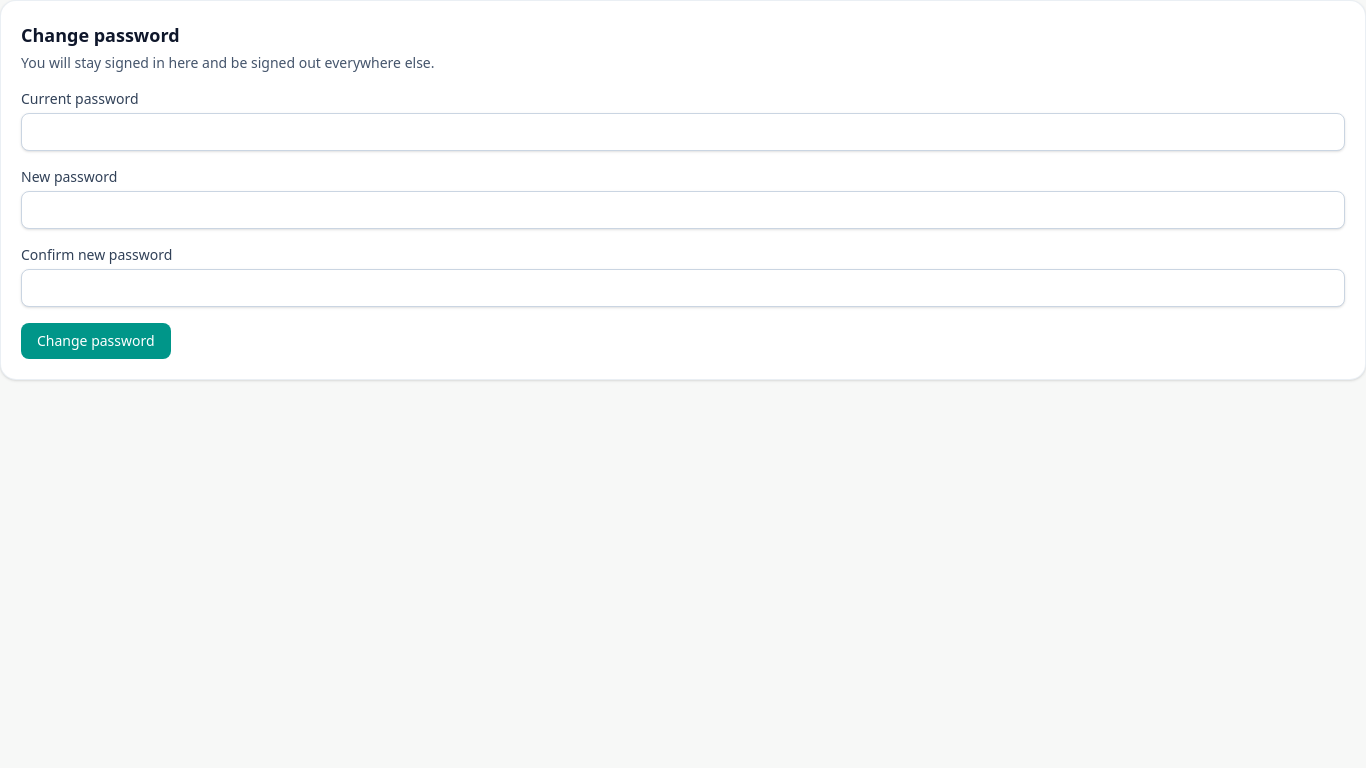
Test: ChangePasswordForm › changes the password, clears the form and confirms
Type "OldPassword1" into the password field labelled "Current password". click: (683, 132)
box: [21,113,1345,151]
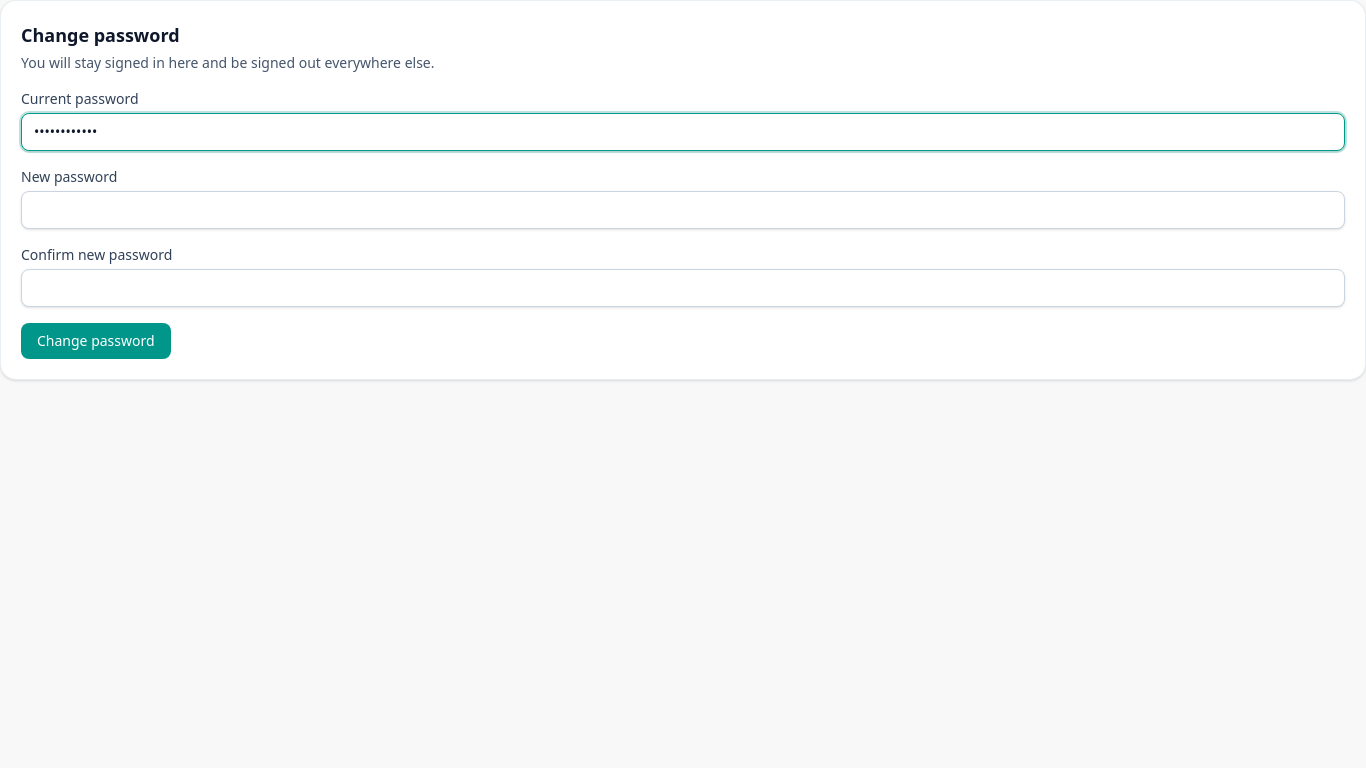
Type "NewPassword12" into the password field labelled "New password". click: (683, 210)
box: [21,191,1345,229]
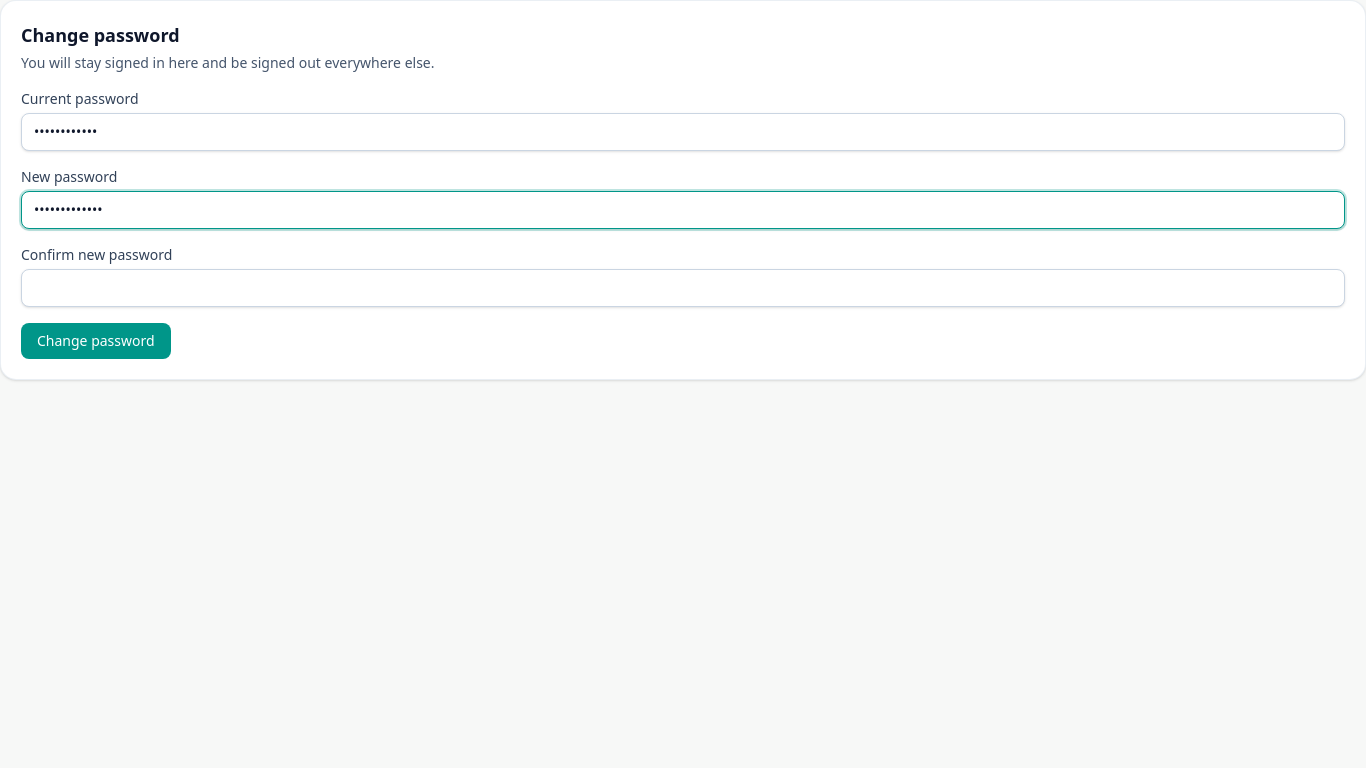
Type "NewPassword12" into the password field labelled "Confirm new password". click: (683, 288)
box: [21,269,1345,307]
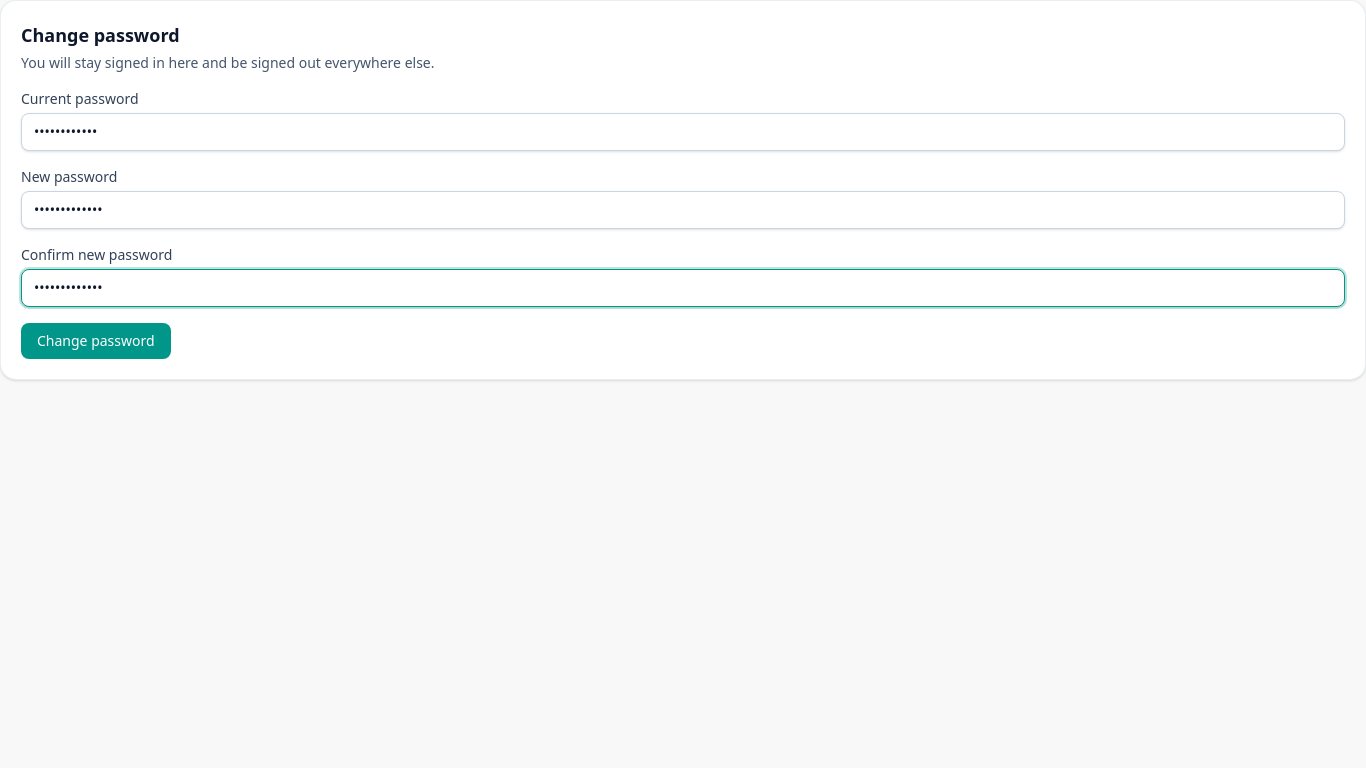
Click the button "Change password". click: (96, 341)
box: [21,323,171,359]
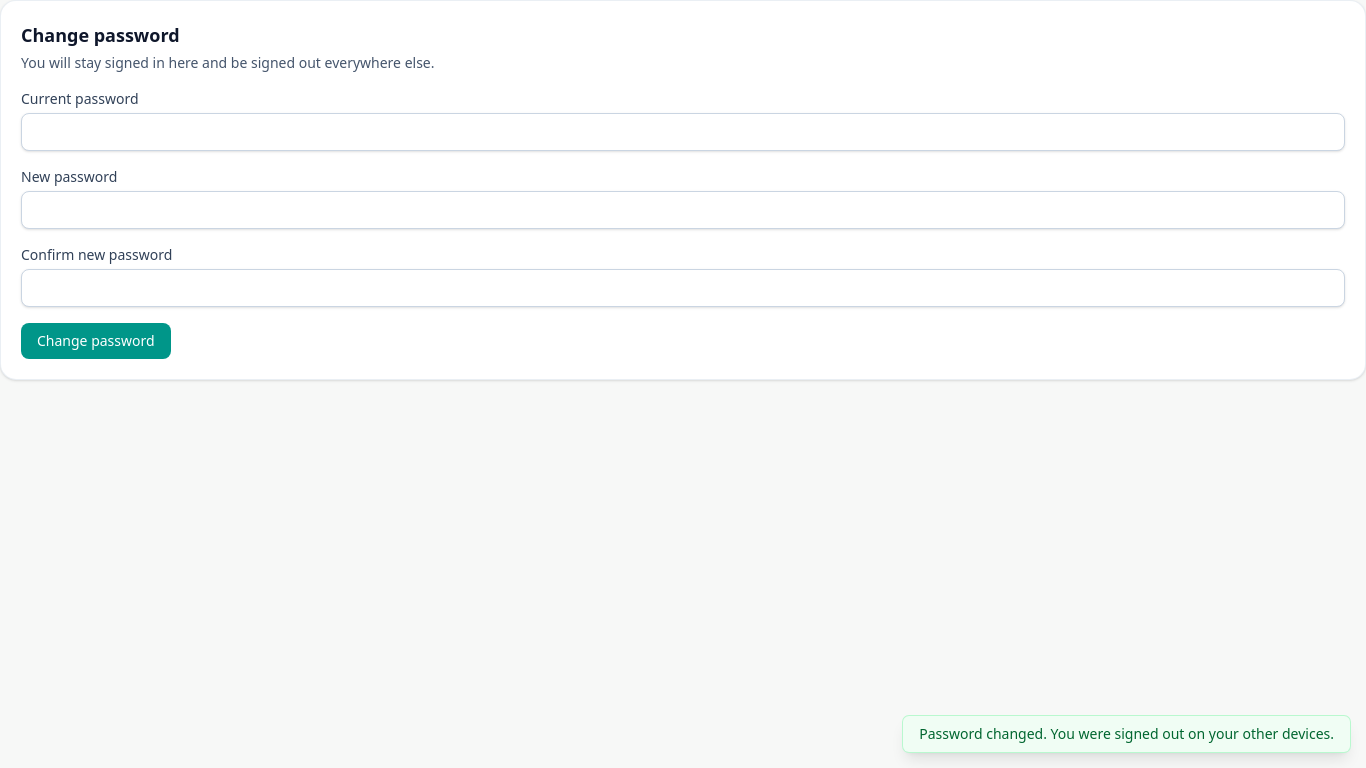
Expected: the text "Password changed. You were signed out on your other devices." is shown, [903,716,1350,752]
Expected: the password field labelled "Current password" is empty, [21,113,1345,151]
